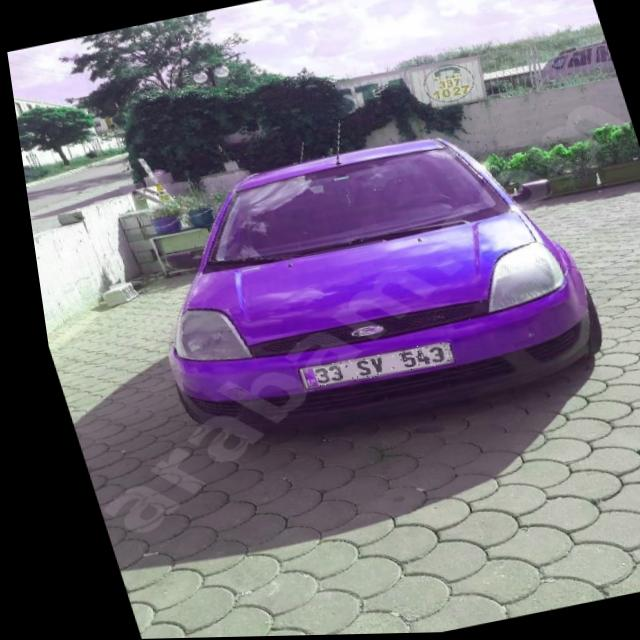license_plate: (284, 340, 448, 393)
